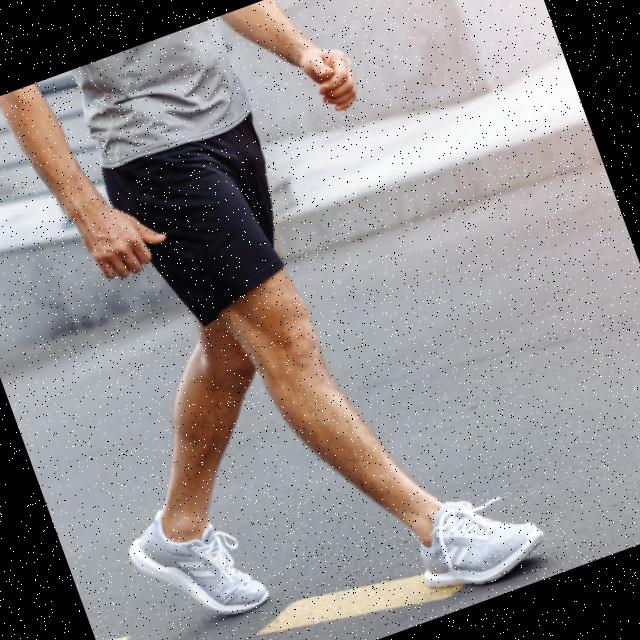Person: (0, 0, 558, 640)
